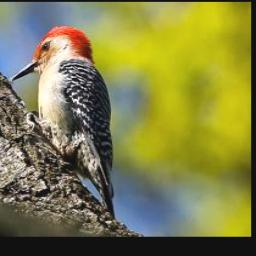Woodpecker: (6, 26, 115, 216)
